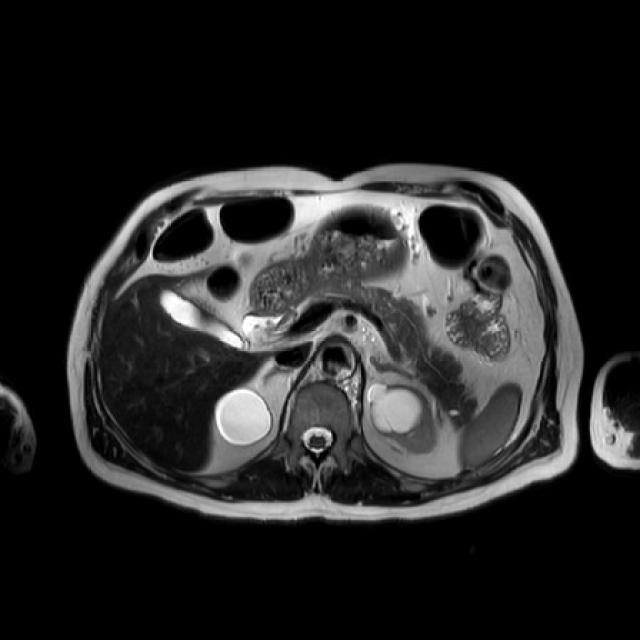sag: (213, 387, 272, 451)
sol: (366, 380, 437, 455)
